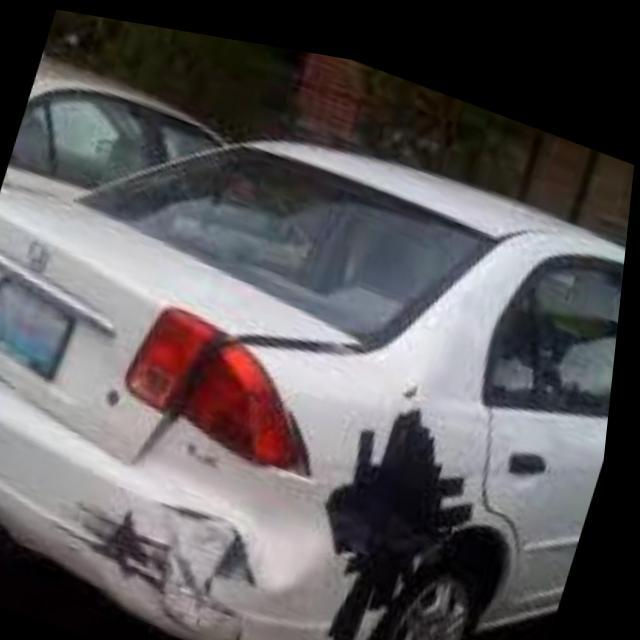crack: (333, 389, 488, 640), (66, 478, 286, 640)
